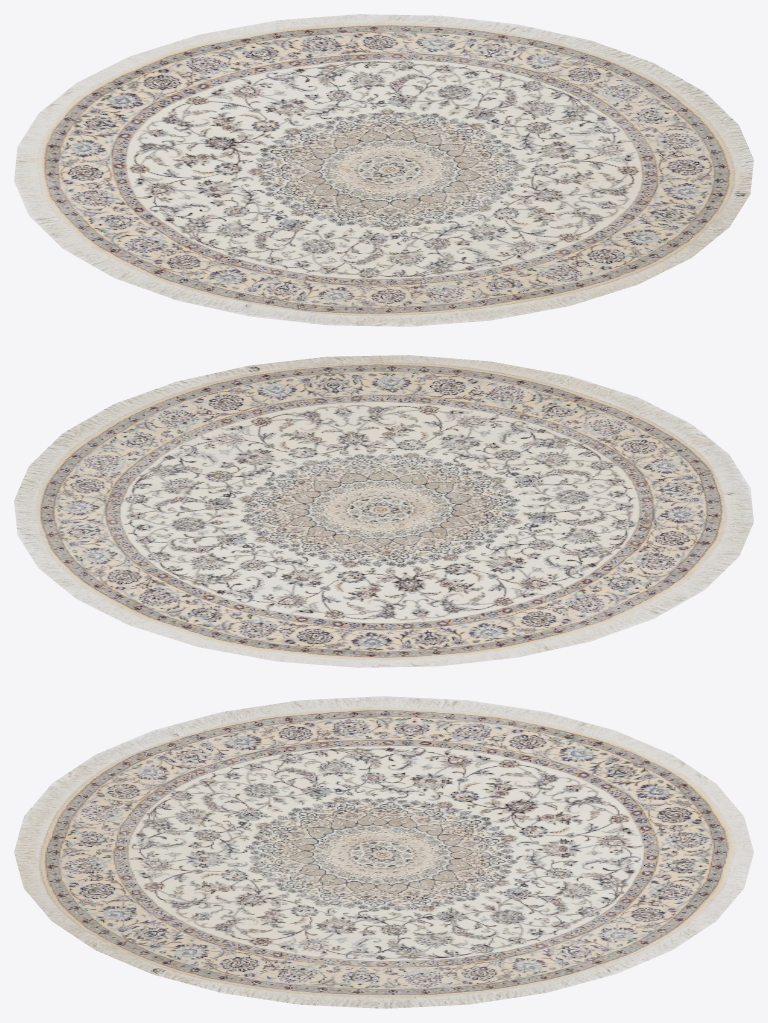
Rendered from carpet2.glb.
The picture shows the model from 3 angles, top to bottom: view 1: azimuth 30°, elevation 25°; view 2: azimuth 150°, elevation 25°; view 3: azimuth 270°, elevation 25°; orthographic projection.
Parts seen in each view (by area): view 1: Circle001; view 2: Circle001; view 3: Circle001.
Part boxes in pixels (x1,y1,x2,y2): Circle001: (14,14,753,326); Circle001: (14,355,753,667); Circle001: (14,696,753,1008).
Bounding box in the file's own units: 5 × 0 × 5.
1 material, 1 textured.
